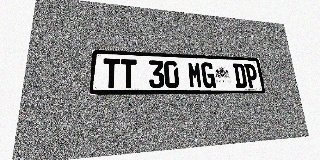0: (164, 61, 179, 88)
3: (149, 60, 164, 88)
D: (232, 63, 247, 88)
G: (201, 62, 216, 88)
M: (187, 62, 203, 88)
P: (244, 64, 259, 88)
T: (102, 58, 120, 88), (120, 59, 137, 88)
